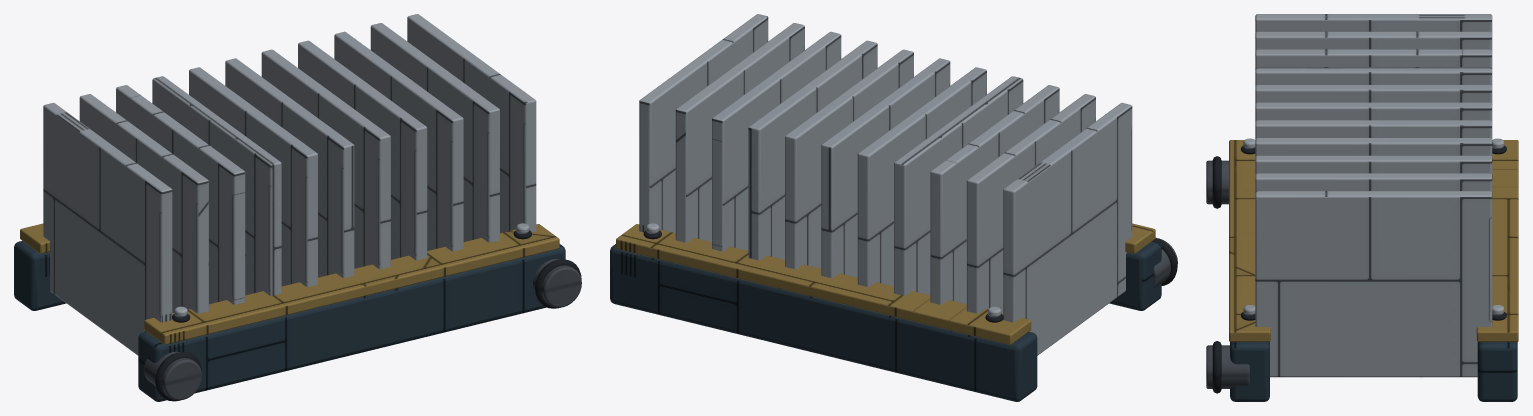
Rendered from ops_coolant_fin_cassette_lod0.glb.
The picture shows the model from 3 angles, left to right: view 1: azimuth 30°, elevation 25°; view 2: azimuth 150°, elevation 25°; view 3: azimuth 270°, elevation 25°; orthographic projection.
Visible parts, largest first — view 1: LOD0_BrushedMetal, LOD0_Armor, LOD0_Hull, LOD0_Mechanical, LOD0_MechanicalDark; view 2: LOD0_BrushedMetal, LOD0_Armor, LOD0_Hull, LOD0_MechanicalDark; view 3: LOD0_BrushedMetal, LOD0_Hull, LOD0_Armor, LOD0_Mechanical, LOD0_MechanicalDark.
Part boxes in pixels (left/top/right/bottom): LOD0_BrushedMetal: left=43, top=14, right=536, bottom=355; LOD0_Armor: left=14, top=241, right=565, bottom=401; LOD0_Hull: left=20, top=223, right=559, bottom=344; LOD0_Mechanical: left=144, top=259, right=581, bottom=400; LOD0_MechanicalDark: left=155, top=230, right=581, bottom=401; LOD0_BrushedMetal: left=639, top=14, right=1132, bottom=355; LOD0_Armor: left=610, top=241, right=1161, bottom=401; LOD0_Hull: left=616, top=223, right=1155, bottom=344; LOD0_MechanicalDark: left=643, top=230, right=1177, bottom=322; LOD0_BrushedMetal: left=1243, top=14, right=1504, bottom=377; LOD0_Hull: left=1229, top=140, right=1518, bottom=341; LOD0_Armor: left=1230, top=342, right=1517, bottom=401; LOD0_Mechanical: left=1206, top=160, right=1249, bottom=388; LOD0_MechanicalDark: left=1212, top=145, right=1506, bottom=393.
Size of the model in its own units: 2.69 by 1.2 by 1.72.
5 materials, 5 textured.
